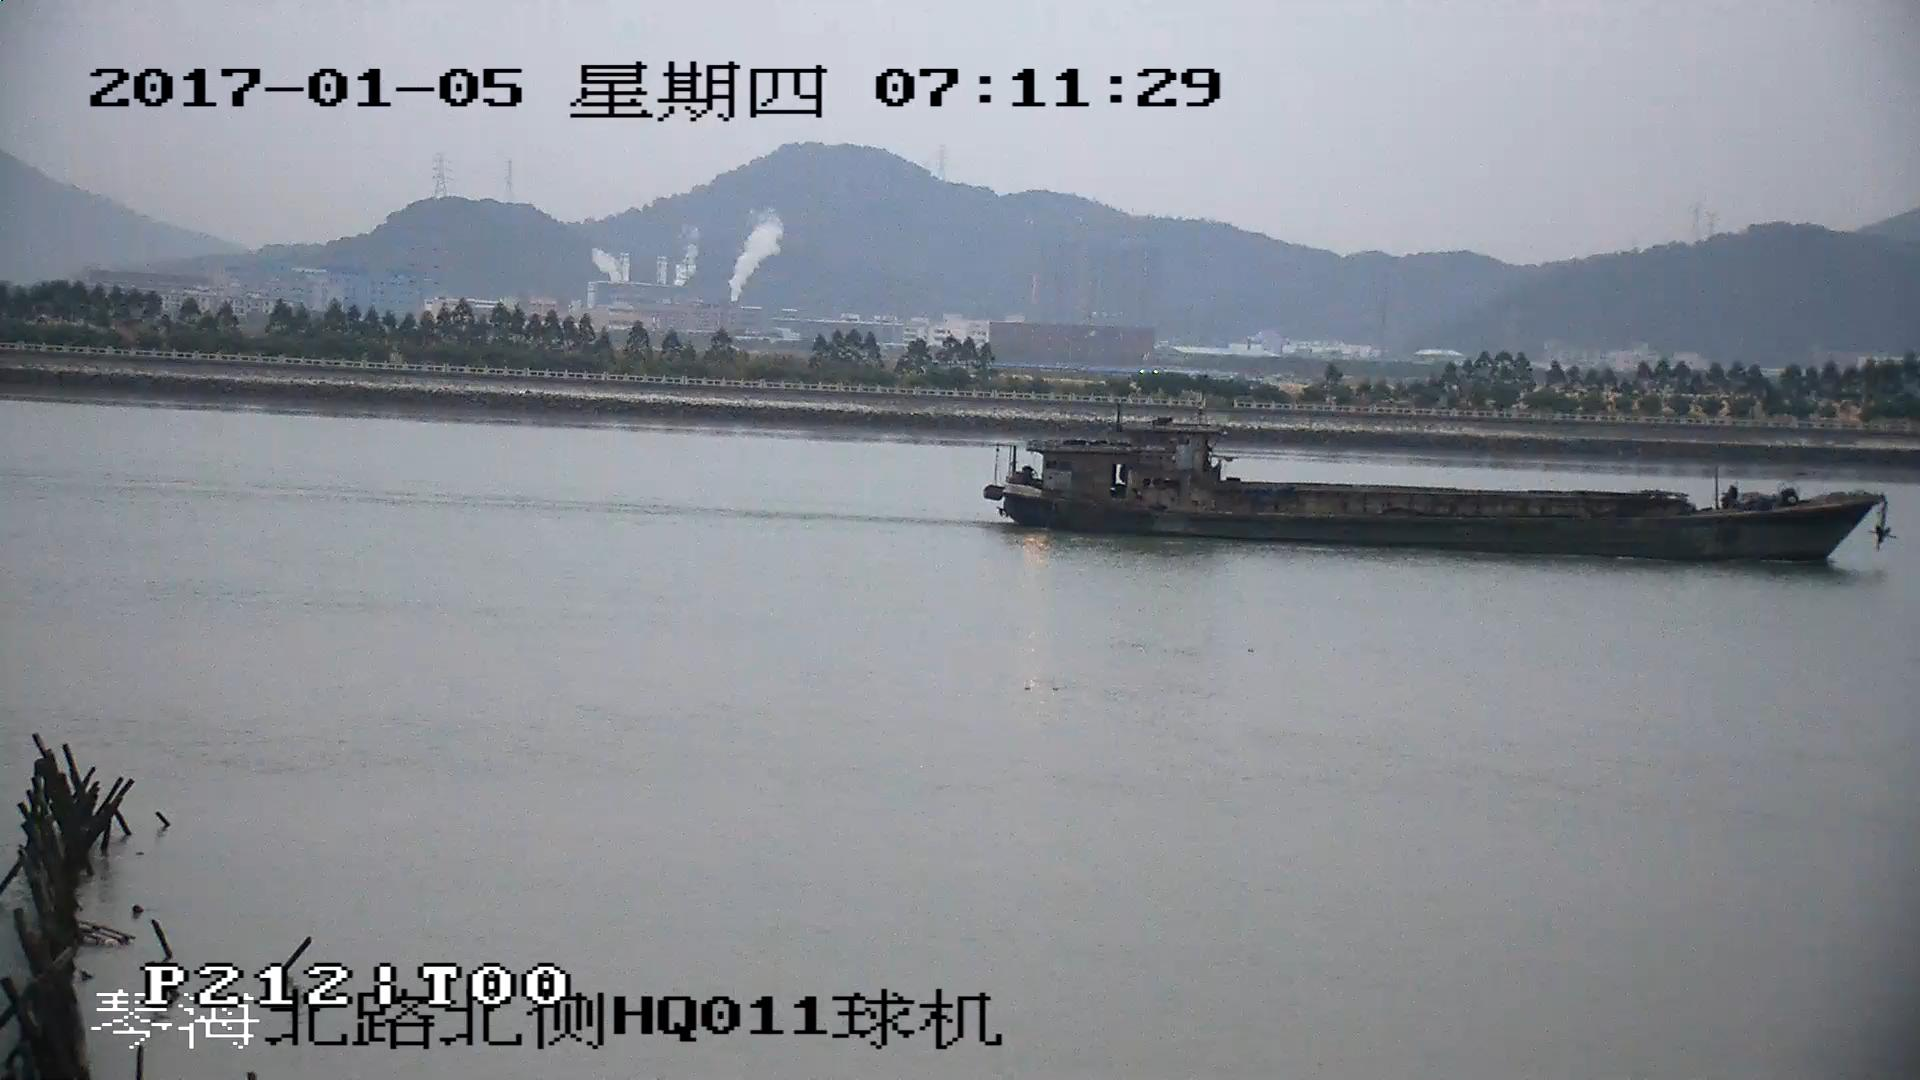bulk cargo carrier: (982, 414, 1890, 560)
